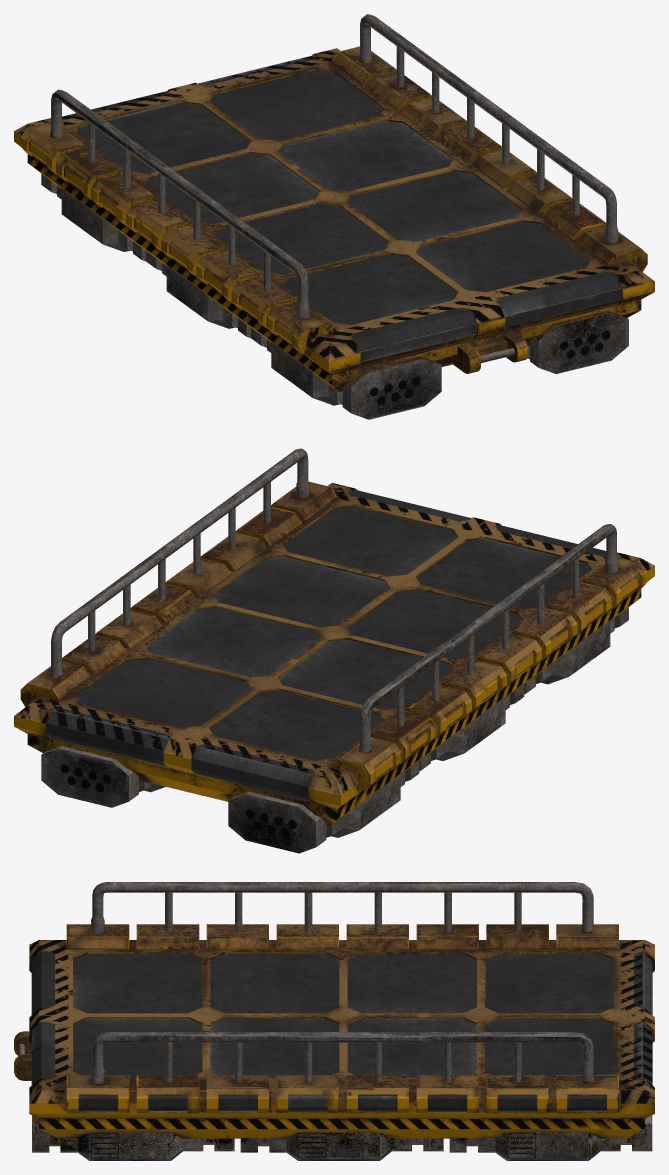
File: PlatformFBX001.fbx
3 views of the same model, one above another, from view 1: azimuth 30°, elevation 25°; view 2: azimuth 150°, elevation 25°; view 3: azimuth 270°, elevation 25° (orthographic).
Visible parts, largest first — view 1: Cube, Cube.001; view 2: Cube, Cube.001; view 3: Cube, Cube.001.
Part boxes in pixels (x1=…): Cube: x1=14, y1=46, x2=654, y2=419; Cube.001: x1=50, y1=14, x2=618, y2=363; Cube: x1=14, y1=481, x2=654, y2=853; Cube.001: x1=50, y1=448, x2=618, y2=753; Cube: x1=14, y1=924, x2=654, y2=1160; Cube.001: x1=18, y1=882, x2=594, y2=1083.
Size of the model in its own units: 642 by 250 by 1024.
1 material, 1 textured.
